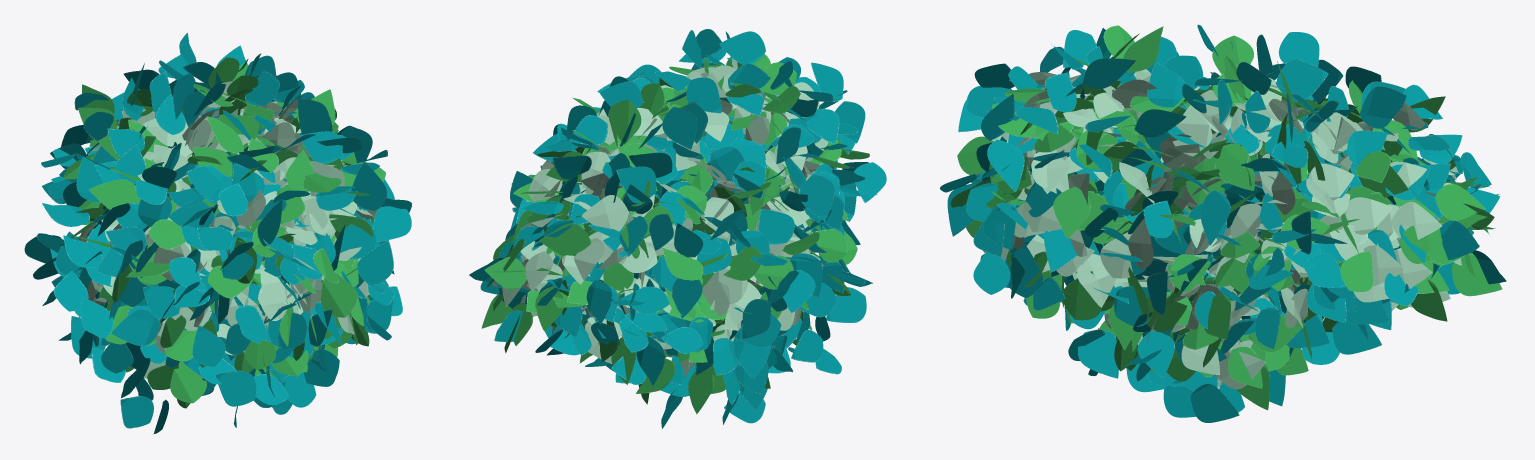
Rendered from bush02.fbx.
3 views of the same model, side by side, from view 1: azimuth 30°, elevation 25°; view 2: azimuth 150°, elevation 25°; view 3: azimuth 270°, elevation 25° (orthographic). The views are drawn at different scales.
Parts seen in each view (by area): view 1: bush02; view 2: bush02; view 3: bush02.
Boxes of the visible parts, x1,y1,x2,y2 form: bush02: (24, 32, 411, 434); bush02: (469, 29, 886, 428); bush02: (940, 24, 1506, 422).
Bounding box in the file's own units: 334 × 324 × 430.
